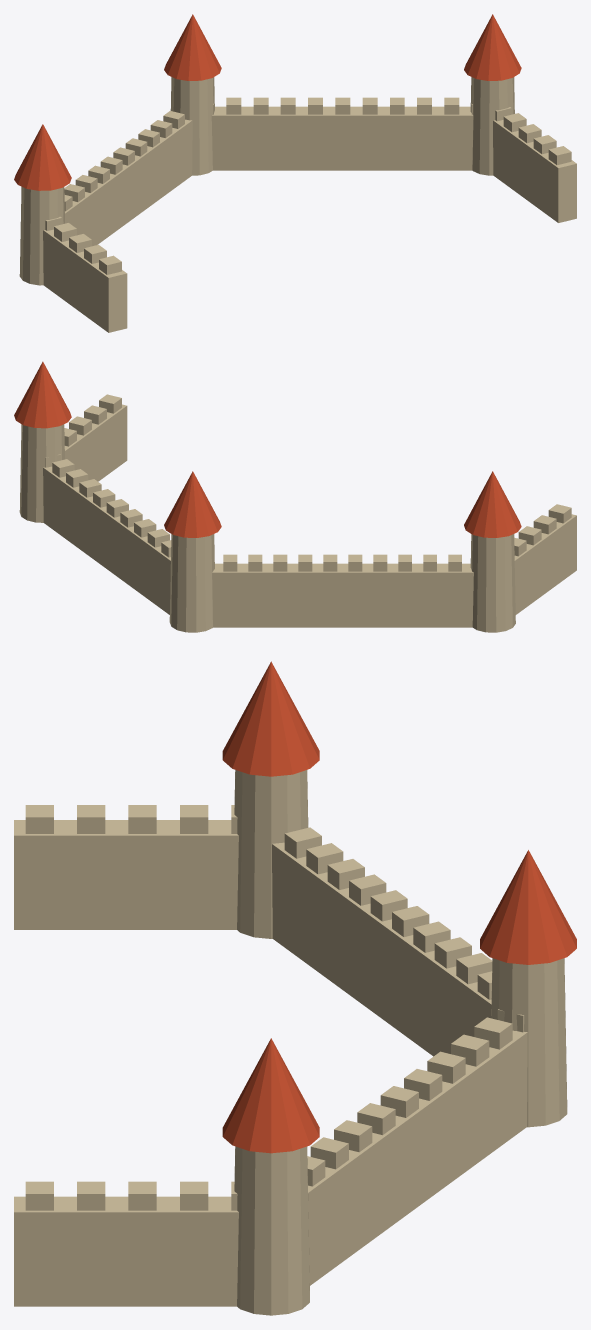
The model's file is walls_1_back.fbx.
The picture shows the model from 3 angles, top to bottom: view 1: azimuth 30°, elevation 25°; view 2: azimuth 150°, elevation 25°; view 3: azimuth 270°, elevation 25°; orthographic projection. The views are drawn at different scales.
Parts seen in each view (by area): view 1: walls_1_back; view 2: walls_1_back; view 3: walls_1_back.
Boxes of the visible parts, x1,y1,x2,y2 form: walls_1_back: [14, 14, 576, 332]; walls_1_back: [14, 361, 576, 632]; walls_1_back: [14, 661, 576, 1315].
Size of the model in its own units: 162 by 47 by 91.92.
